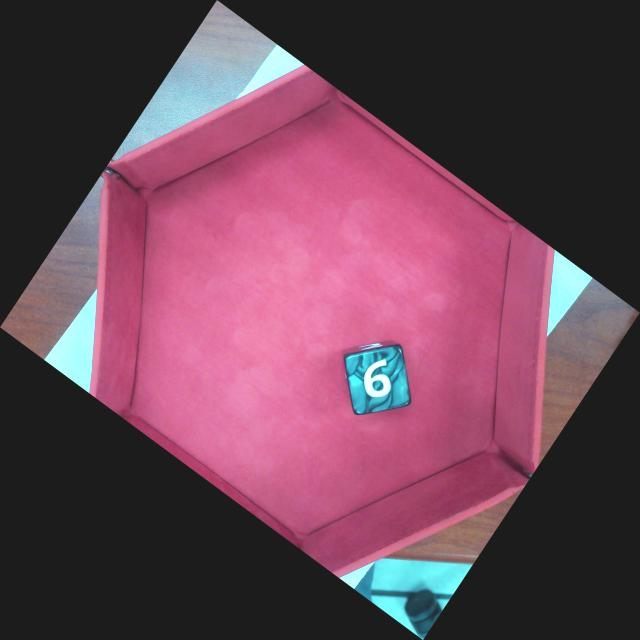dice: (344, 342, 413, 416)
